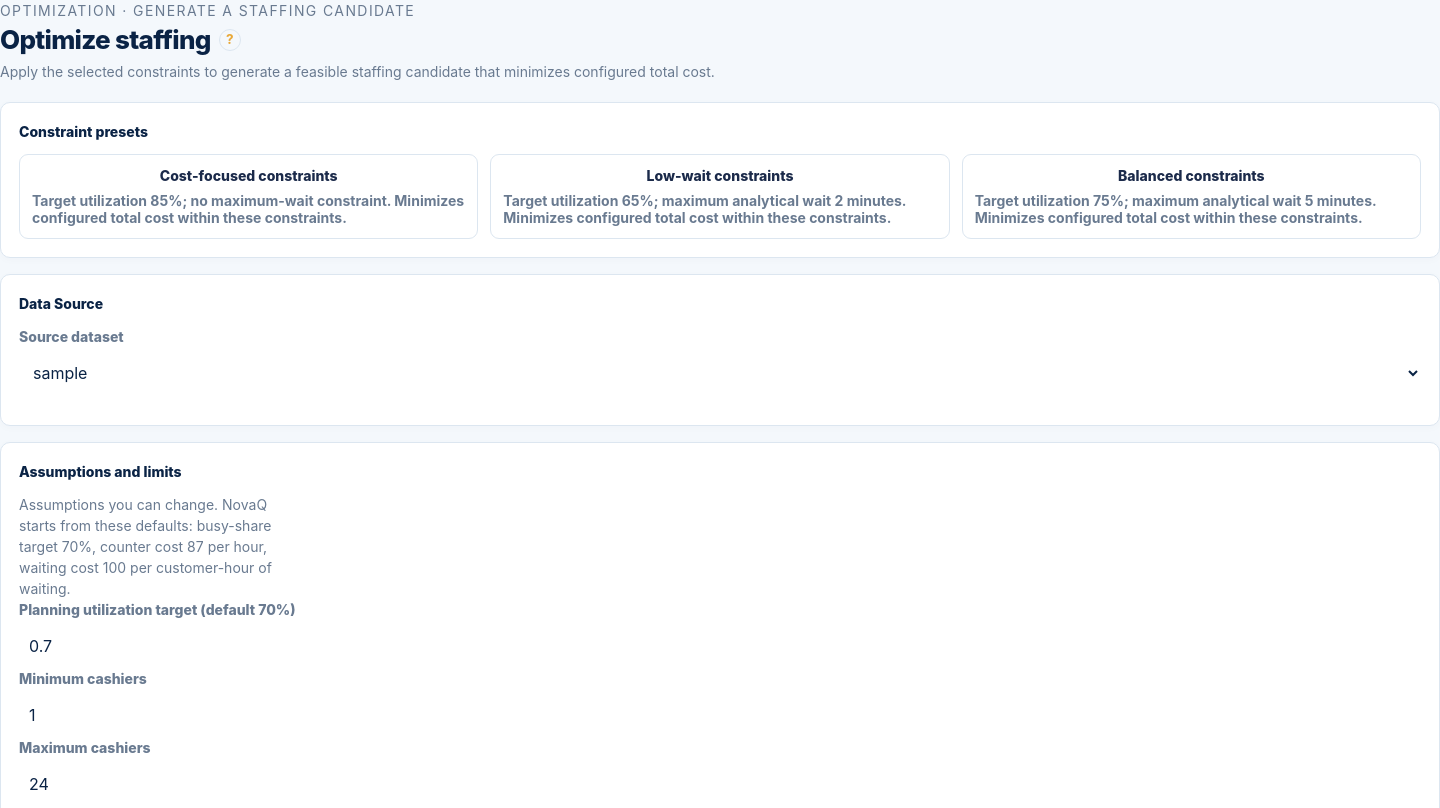
Test case: calculation integrity › does not fabricate a staffing insight from INVALID_INPUT rows
Select "sample" in the dropdown labelled "Source dataset" at (720, 373), box [19,351,1421,395]
(page scrolled)
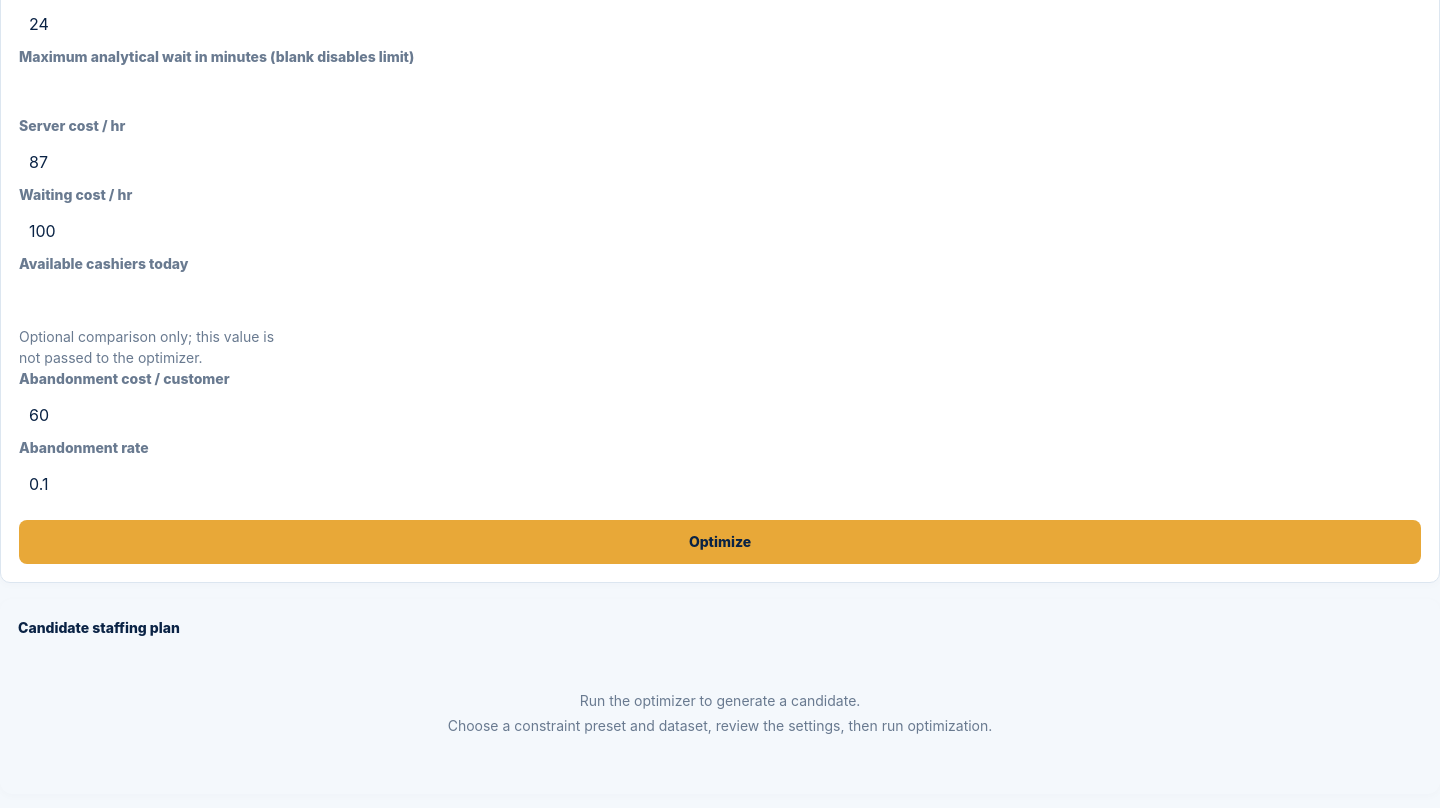
Click the button "Optimize" at (720, 542), box [19,520,1421,564]
(page scrolled)
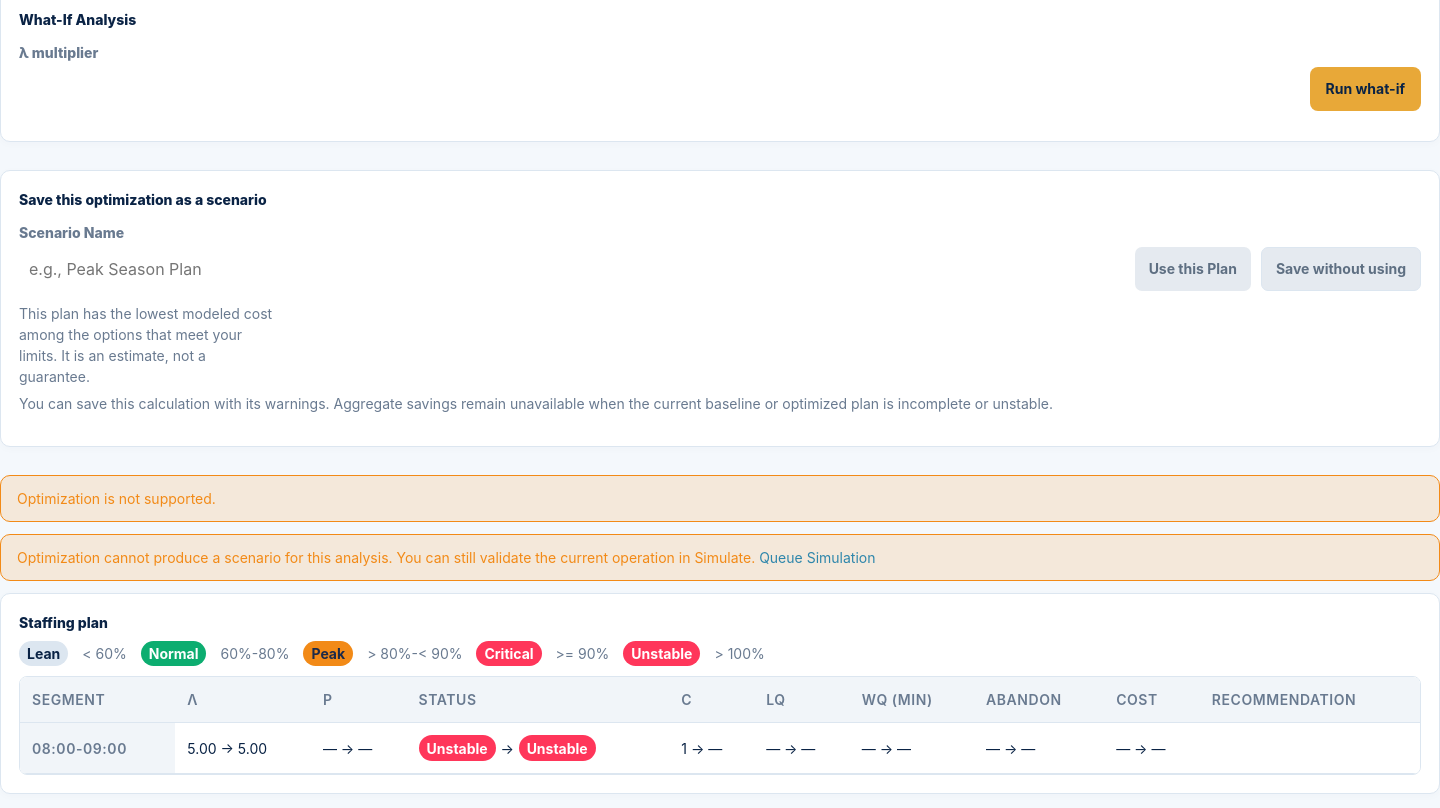
Result: the text "Optimization is not supported." is shown at [0,475,1439,522]
